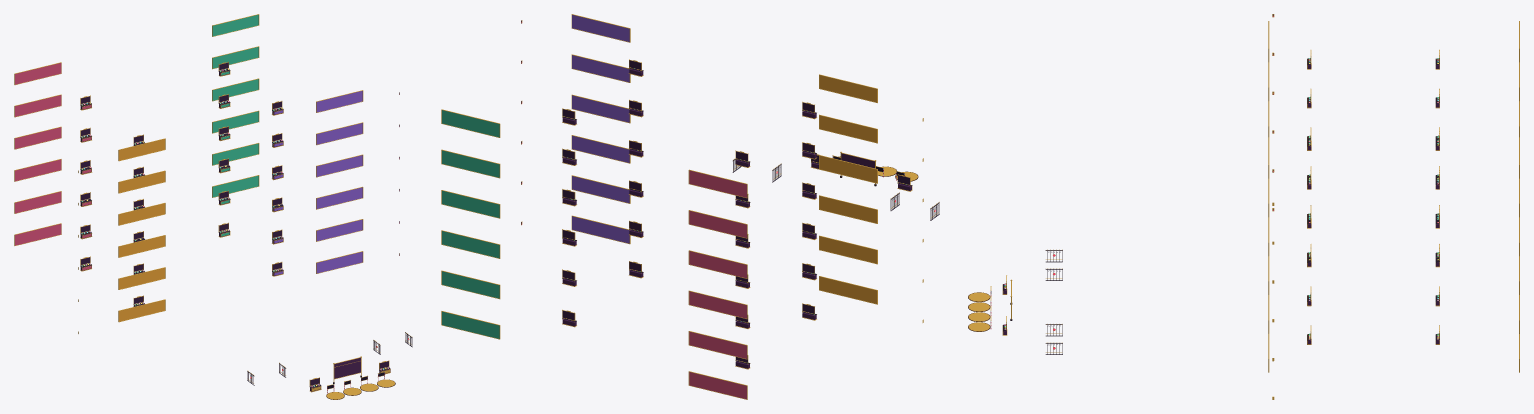
The model's file is CR-Station-Dressing.glb.
3 renders of one model, left to right at view 1: azimuth 30°, elevation 25°; view 2: azimuth 150°, elevation 25°; view 3: azimuth 270°, elevation 25°, orthographic. The views are drawn at different scales.
Visible parts, largest first — view 1: dressing; view 2: dressing; view 3: dressing.
Boxes of the visible parts, x1=… form: dressing: x1=14, y1=14, x2=412, y2=399; dressing: x1=441, y1=14, x2=939, y2=399; dressing: x1=968, y1=14, x2=1519, y2=399.
Size of the model in its own units: 83.43 by 45.28 by 103.
